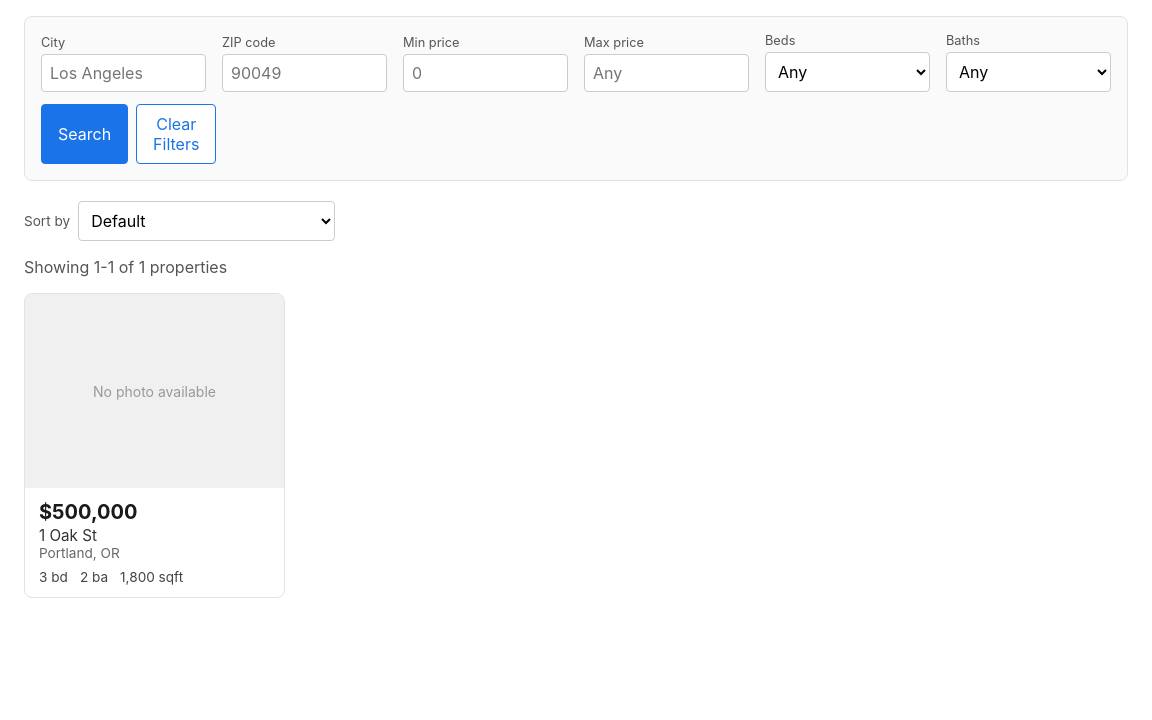
it: ListingsPage › reloads the unfiltered list when Clear Filters is clicked
Expected: the text "1 Oak St" is shown, [39,526,97,545]
In the field labelled "City": (124, 73) [41,54,206,92], type "Portland"
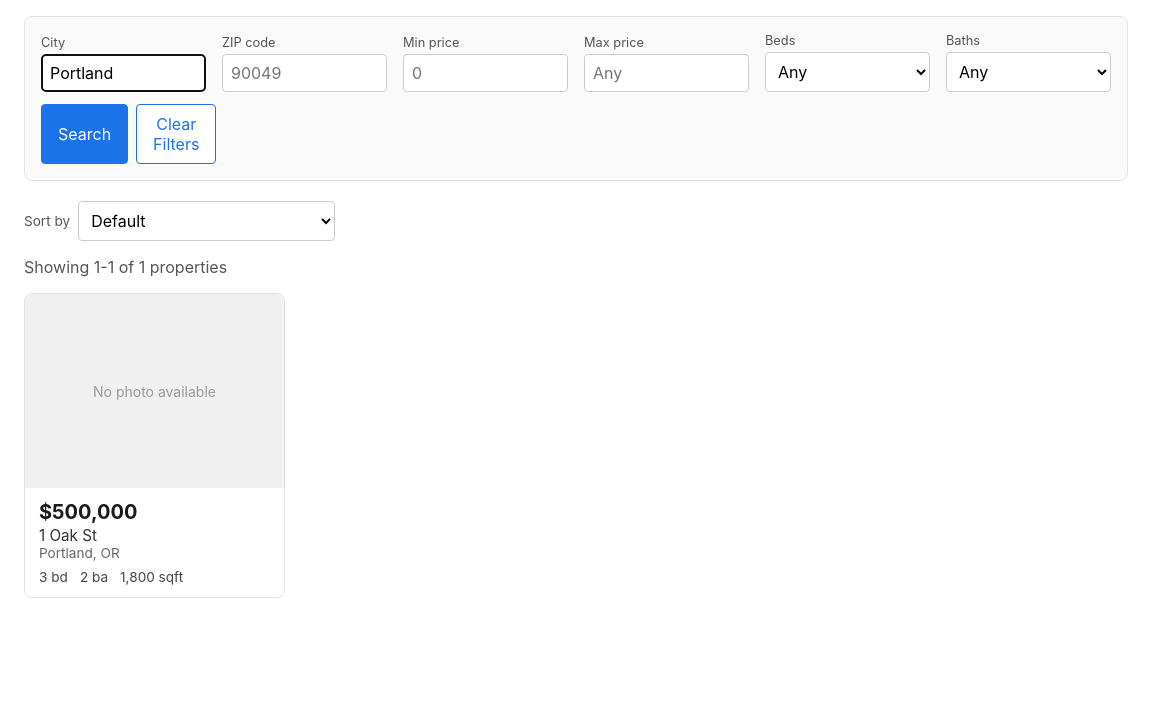
Click the button "Search": (85, 134) [41,104,128,164]
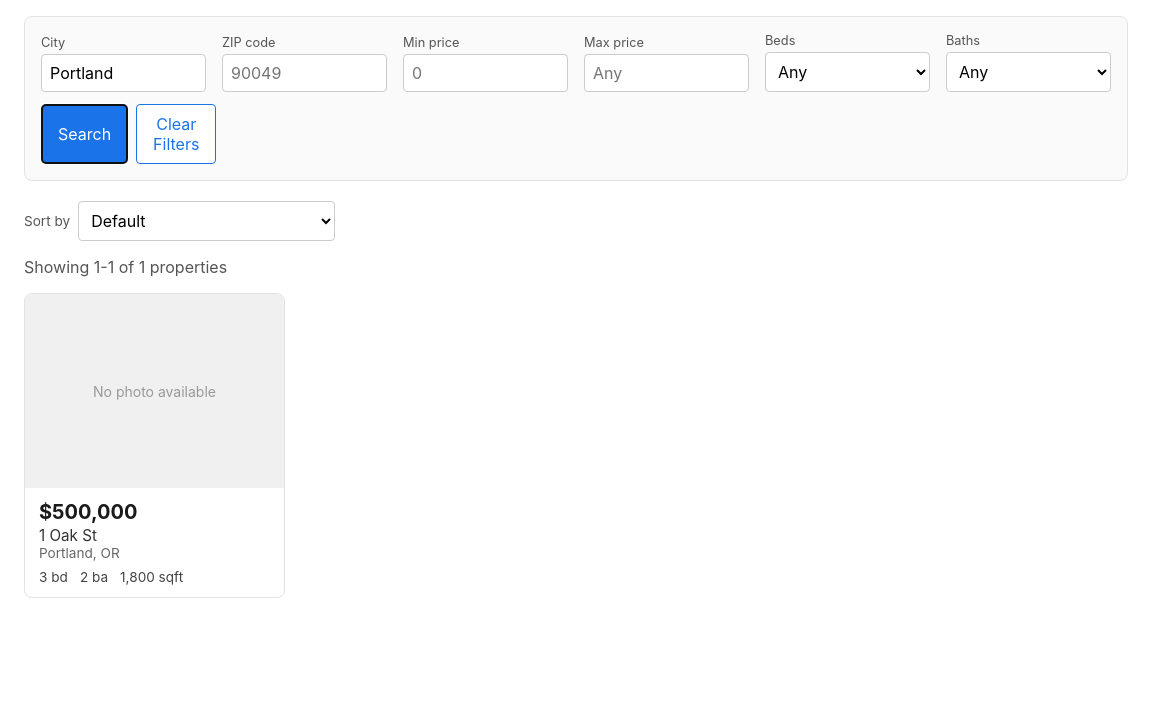
Click the button "Clear Filters": (176, 134) [136,104,216,164]
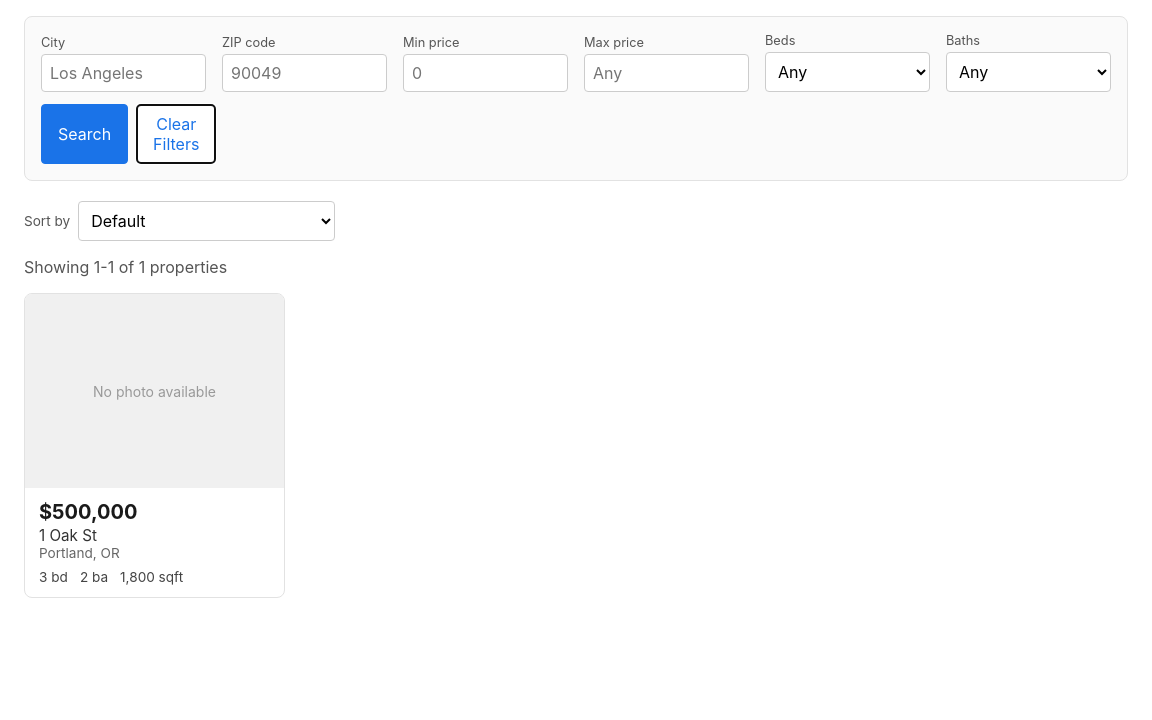
Expected: the field labelled "City" is empty, [41,54,206,92]
